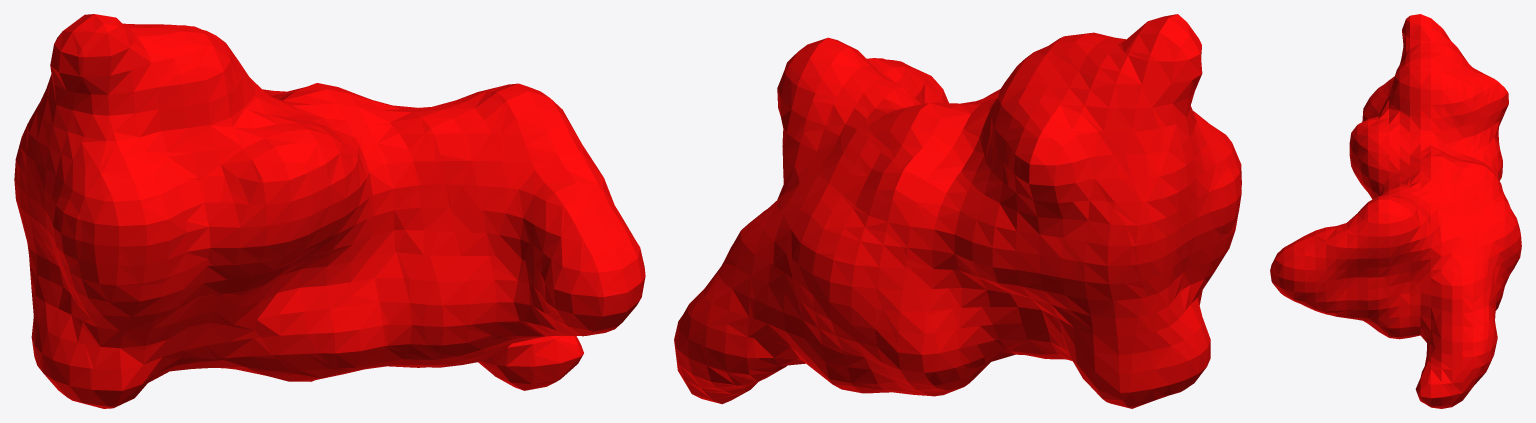
The model's file is frdB_coarse.dae.
3 views of the same model, side by side, from view 1: azimuth 30°, elevation 25°; view 2: azimuth 150°, elevation 25°; view 3: azimuth 270°, elevation 25° (orthographic). The views are drawn at different scales.
Visible parts, largest first — view 1: frdB; view 2: frdB; view 3: frdB.
Boxes of the visible parts, box(x1,y1,x2,y2) form: frdB: box(14, 14, 645, 408); frdB: box(674, 14, 1241, 408); frdB: box(1270, 14, 1521, 408).
Bounding box in the file's own units: 69.25 × 59.69 × 50.2.
